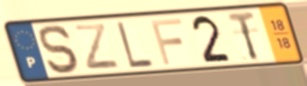2: (190, 14, 233, 65)
F: (148, 16, 185, 67)
L: (114, 20, 156, 69)
S: (38, 23, 83, 76)
T: (225, 9, 261, 63)
Z: (72, 22, 123, 71)
